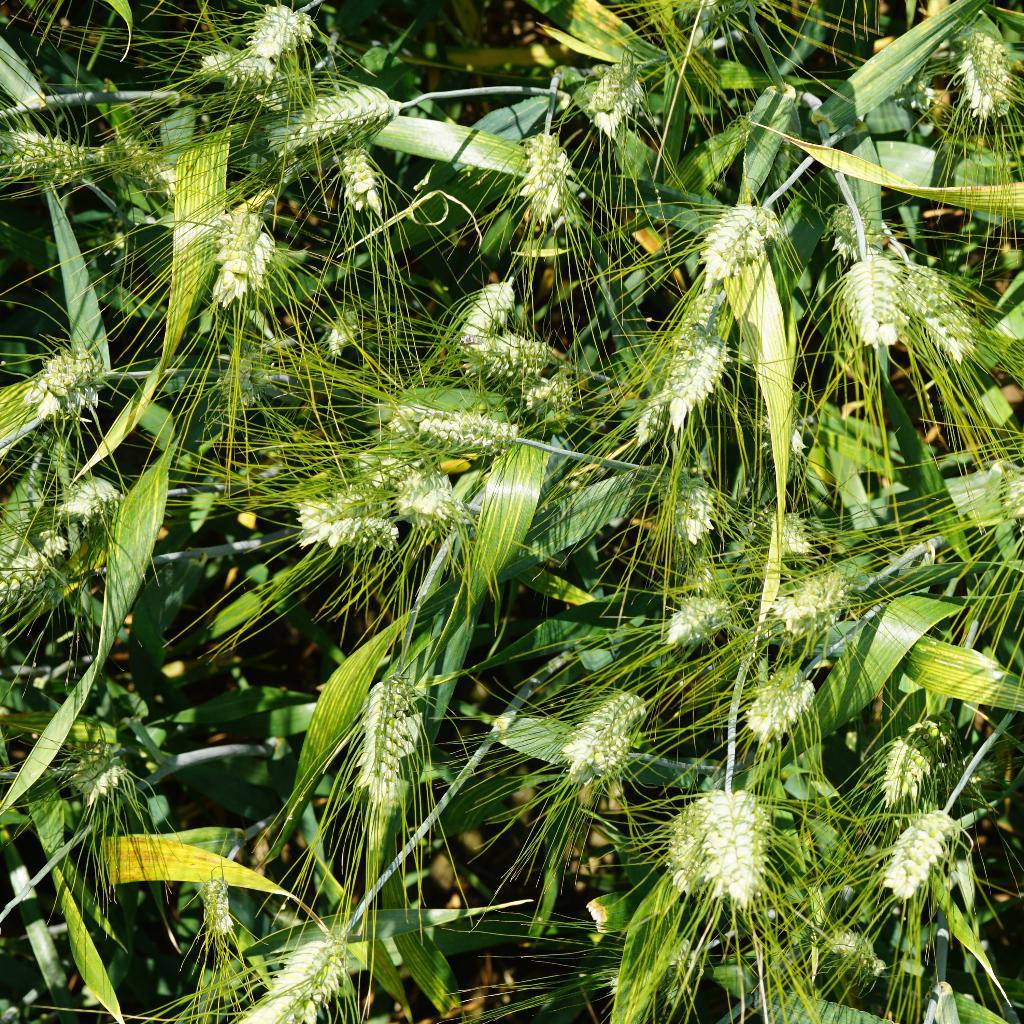0-0: (245, 914, 365, 1024), (258, 77, 415, 156), (656, 286, 748, 419), (350, 664, 430, 814), (886, 245, 978, 358), (279, 467, 399, 550), (677, 179, 776, 277), (395, 391, 530, 459), (874, 800, 963, 900), (464, 316, 576, 395), (590, 940, 695, 1023), (0, 124, 122, 195), (702, 787, 774, 907), (0, 530, 79, 638), (501, 115, 578, 225), (830, 251, 914, 347), (22, 333, 120, 414), (866, 712, 952, 804), (197, 38, 303, 111), (561, 686, 641, 781), (366, 463, 467, 534), (956, 18, 1024, 122), (761, 564, 852, 641), (658, 463, 732, 555), (209, 202, 276, 301), (318, 133, 395, 216), (458, 261, 522, 359), (206, 335, 278, 422), (587, 48, 653, 141), (124, 141, 208, 212), (736, 660, 815, 735), (232, 0, 324, 62), (650, 582, 732, 649), (825, 915, 901, 987), (656, 784, 707, 885), (45, 452, 118, 522), (59, 746, 135, 811), (747, 408, 810, 486), (509, 356, 582, 420), (823, 198, 887, 271), (308, 295, 373, 363), (193, 862, 242, 948), (895, 70, 960, 134), (613, 378, 669, 449), (755, 509, 813, 574)
